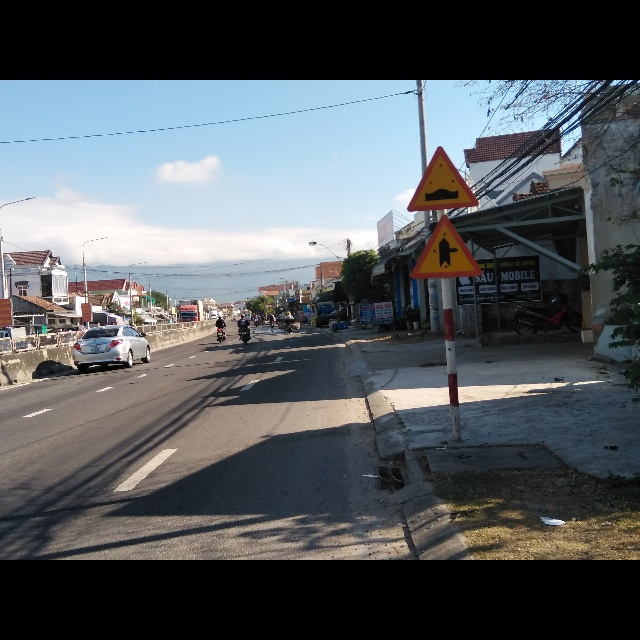Giao nhau với đường không ưu tiên: (409, 216, 485, 279)
Đường không bằng phẳng: (407, 147, 477, 212)
